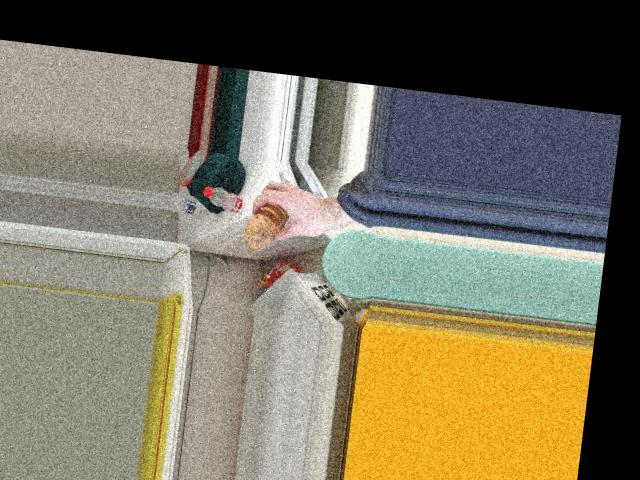sweet_potato: (242, 198, 290, 246)
